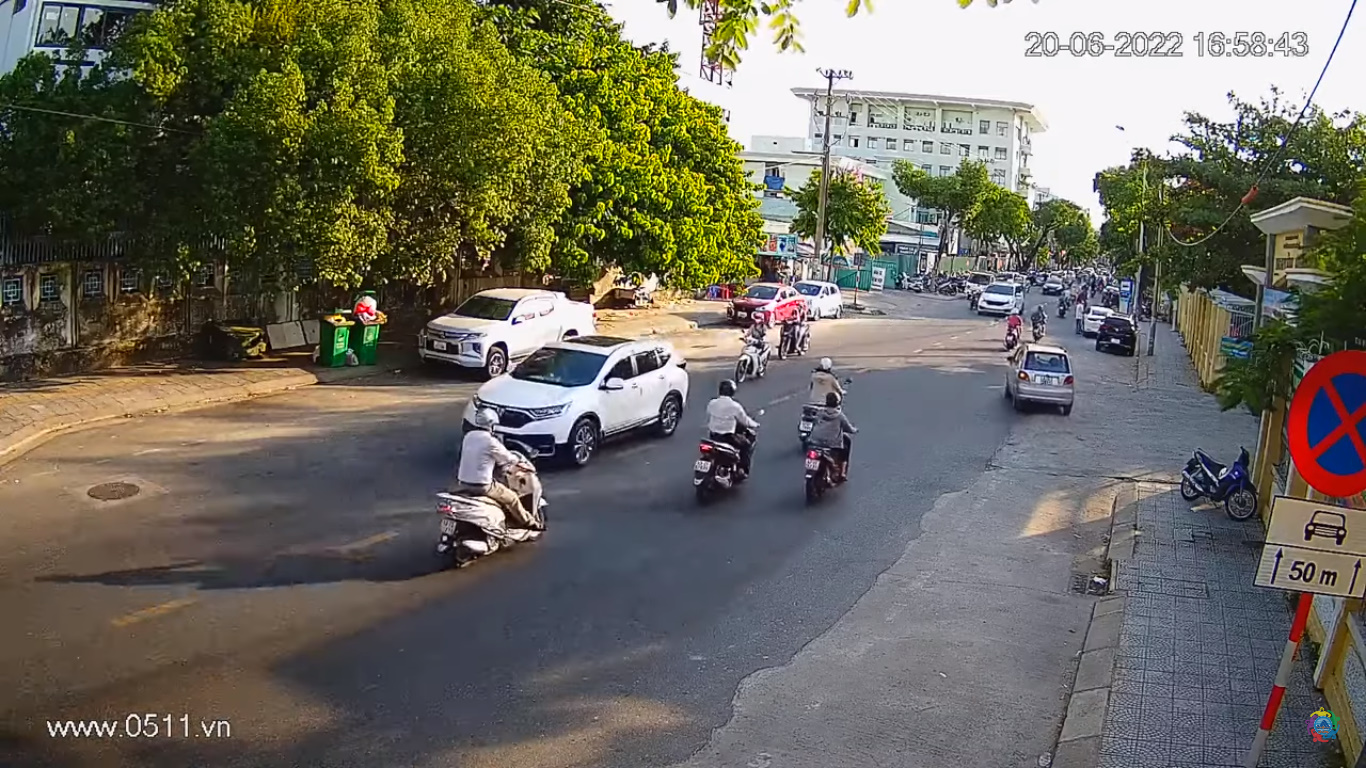car: (459, 334, 695, 463)
